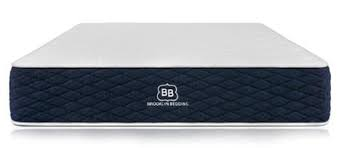bed-matress: (7, 19, 331, 126)
